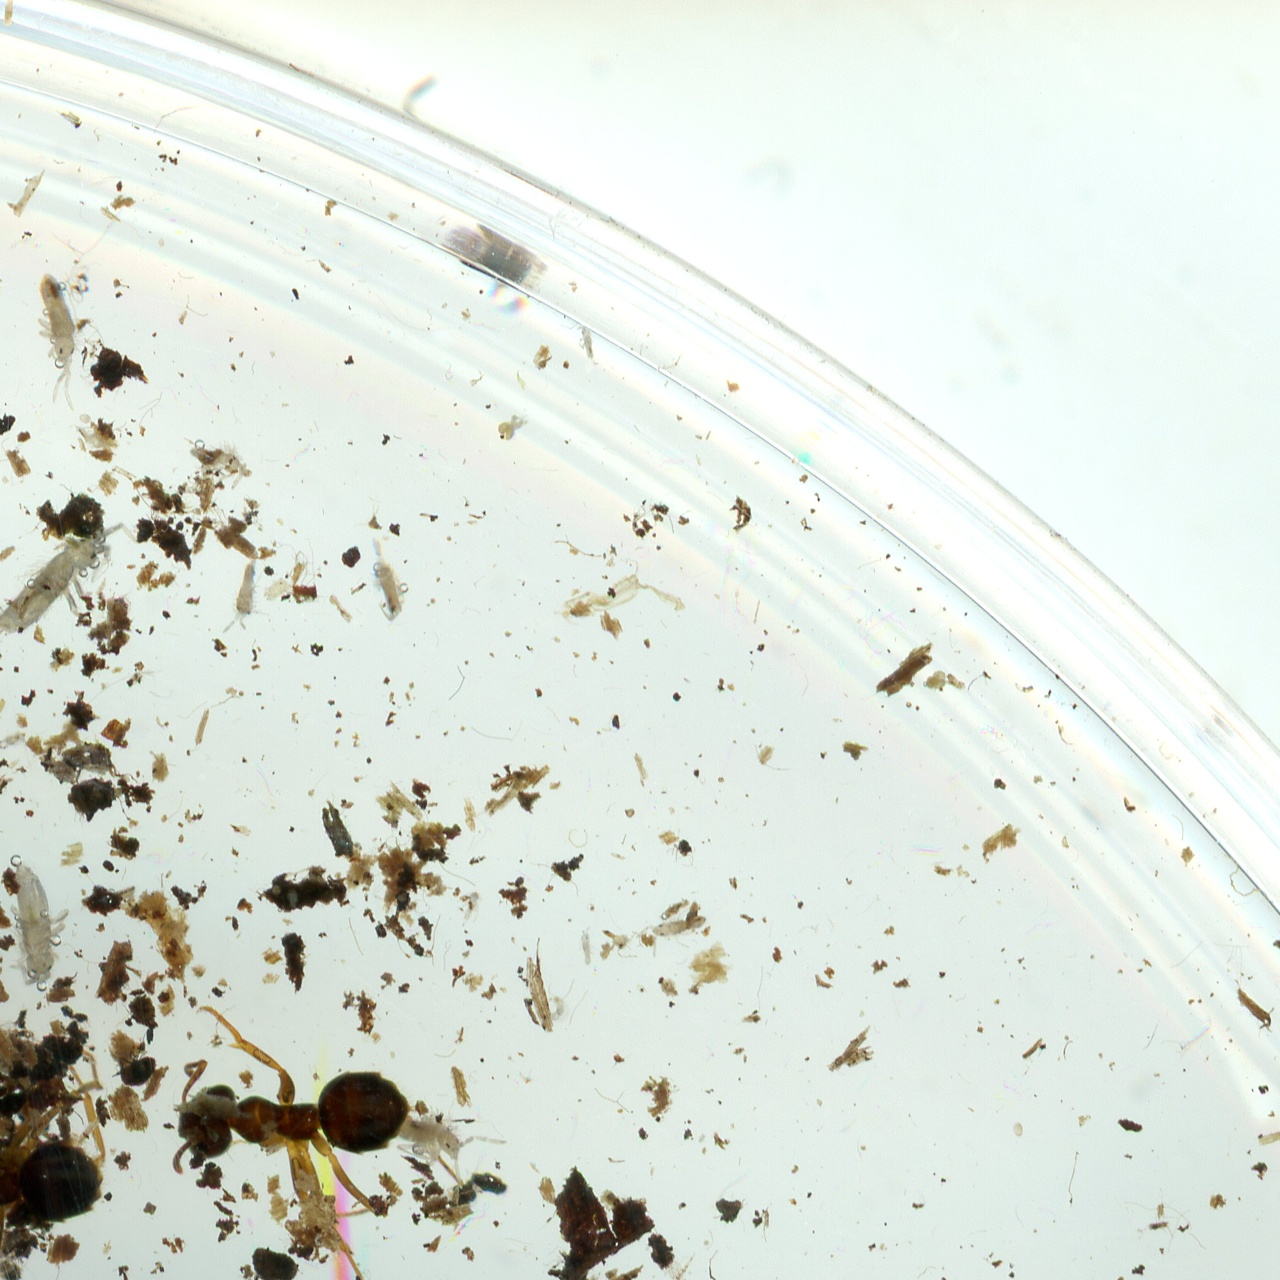arthropod: (141, 961, 438, 1280), (0, 488, 146, 698), (0, 1030, 114, 1280), (8, 862, 78, 989), (404, 1095, 504, 1180), (558, 567, 690, 626), (34, 271, 86, 410), (171, 422, 258, 494), (363, 530, 420, 632), (219, 550, 271, 644), (646, 908, 709, 946), (458, 888, 486, 935), (575, 325, 602, 368), (0, 728, 30, 759), (547, 982, 569, 1024), (578, 929, 596, 967)
